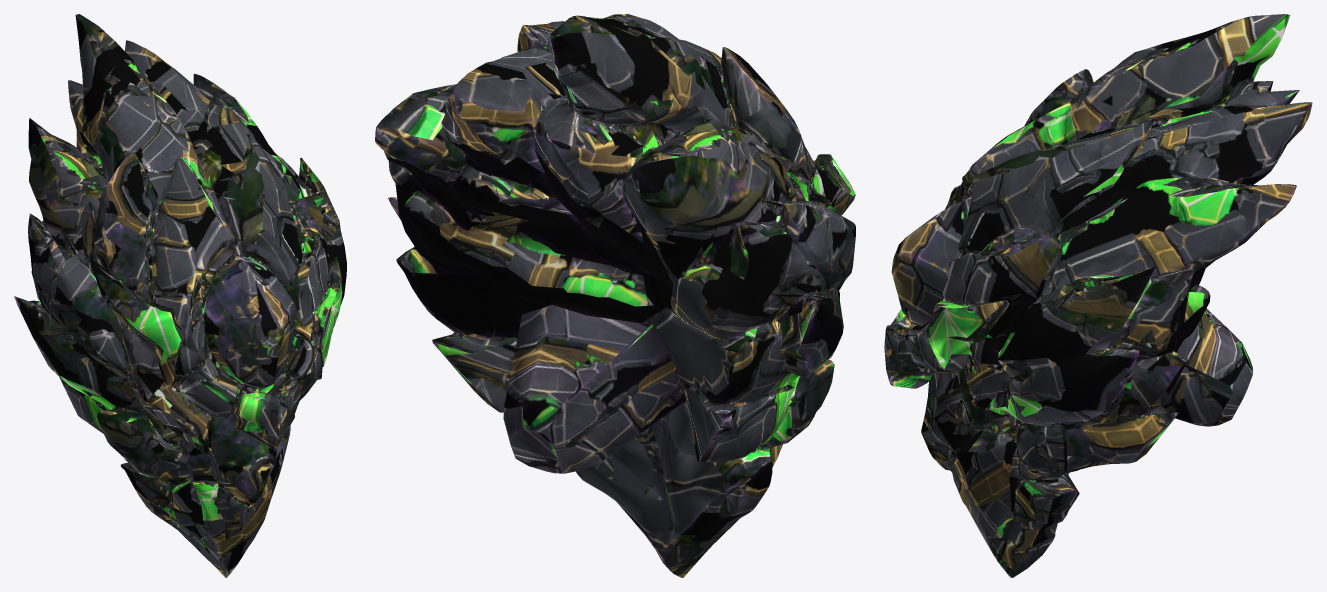
File: shade_meshy_shard_wraith_blend_0725021339_prepared.fbx
3 views of the same model, side by side, from view 1: azimuth 30°, elevation 25°; view 2: azimuth 150°, elevation 25°; view 3: azimuth 270°, elevation 25° (orthographic). The views are drawn at different scales.
Parts seen in each view (by area): view 1: Mesh1.0; view 2: Mesh1.0; view 3: Mesh1.0.
Boxes of the visible parts, x1=… form: Mesh1.0: x1=14, y1=14, x2=346, y2=577; Mesh1.0: x1=375, y1=14, x2=855, y2=577; Mesh1.0: x1=884, y1=14, x2=1312, y2=577.
Bounding box in the file's own units: 50.07 × 75 × 52.99.
